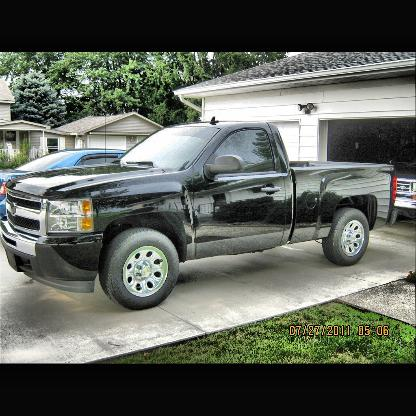Chevrolet Silverado 1500 Regular Cab 2012: (2, 116, 403, 312)
